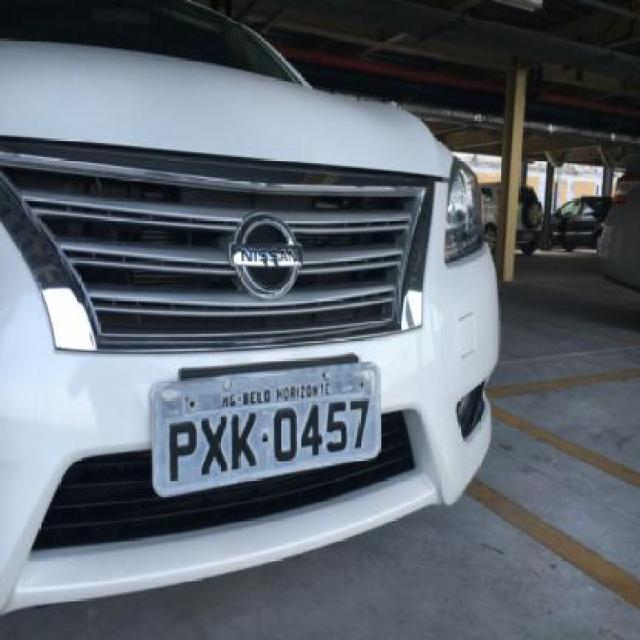old_plate: (143, 350, 385, 505)
